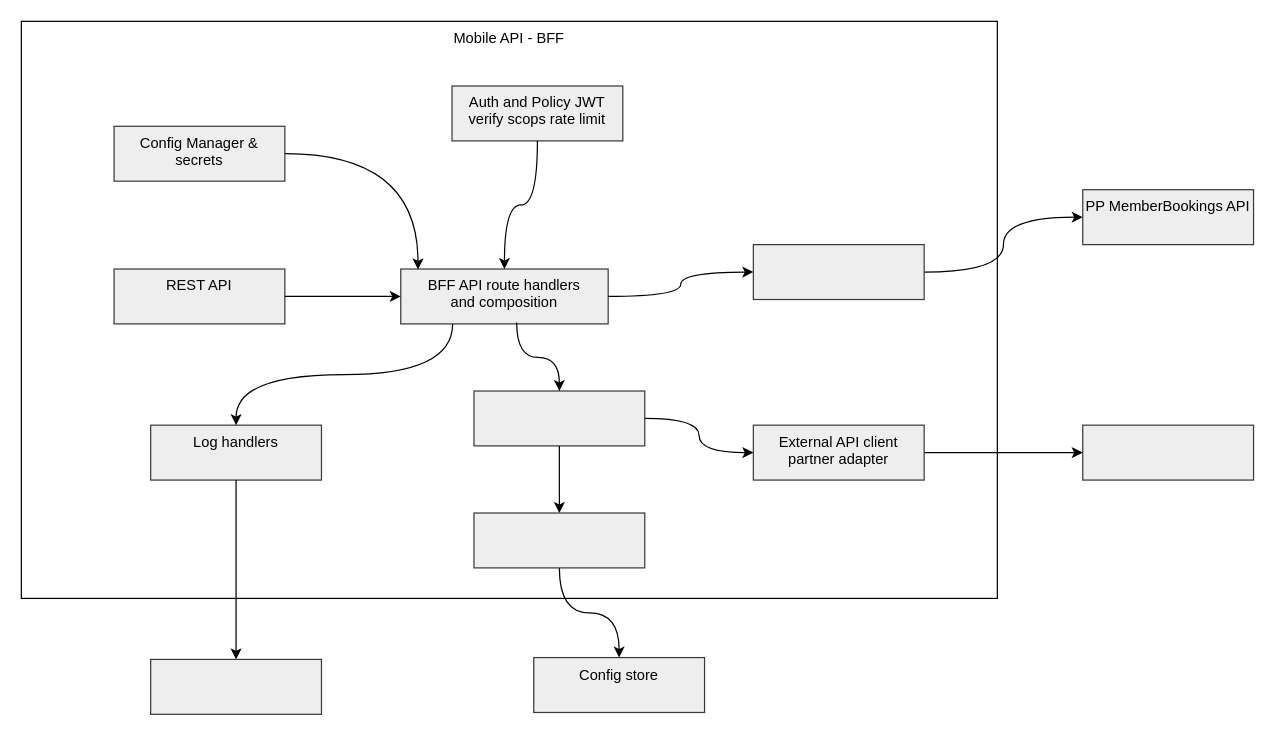
The diagram is 1275 pixels wide and 736 high, and some of its shapes have lost their labels. Each missing label, with the centre of its shape:
Config manager: the point at 559,540
Internal API client partner adapter: the point at 838,271
Log metrics & analytics: the point at 235,686
Taxi journey calculator: the point at 559,418
Taxico APIs: the point at 1168,452
